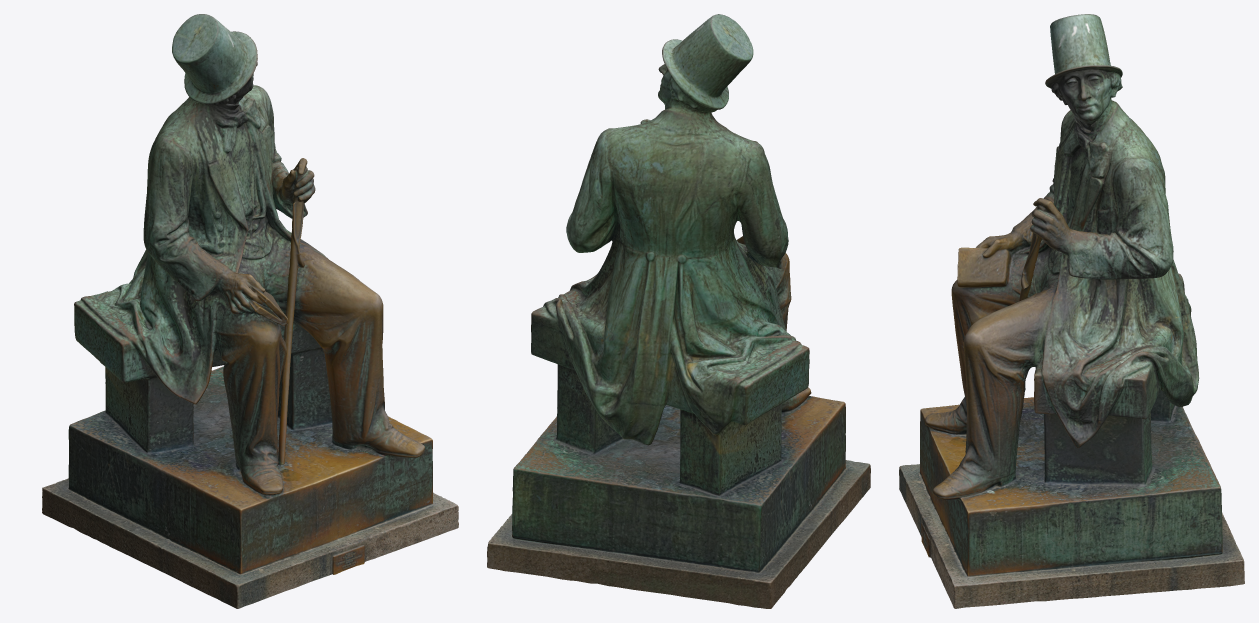
Rendered from hca_statue.glb.
3 views of the same model, side by side, from view 1: azimuth 30°, elevation 25°; view 2: azimuth 150°, elevation 25°; view 3: azimuth 270°, elevation 25° (orthographic). The views are drawn at different scales.
Visible parts, largest first — view 1: Object_2; view 2: Object_2; view 3: Object_2.
Boxes of the visible parts, x1,y1,x2,y2 form: Object_2: (42, 14, 458, 608); Object_2: (487, 14, 870, 608); Object_2: (899, 14, 1244, 608).
Size of the model in its own units: 30.79 by 43.65 by 27.07.
1 material, 1 textured.
